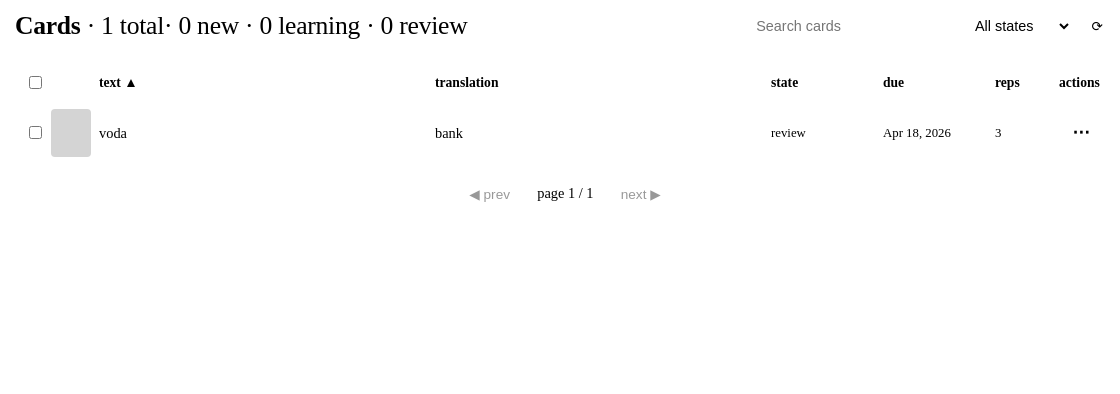
Test: cards/+page.svelte › shows a non-Error toggleSuspend rejection as text
Check: the text "voda" is shown, box [99,124,127,140]
What coordinates should you click on to do the following:
click the button "⋯"
I would click on:
 (1081, 133)
Its box is [1059,119,1103,147].
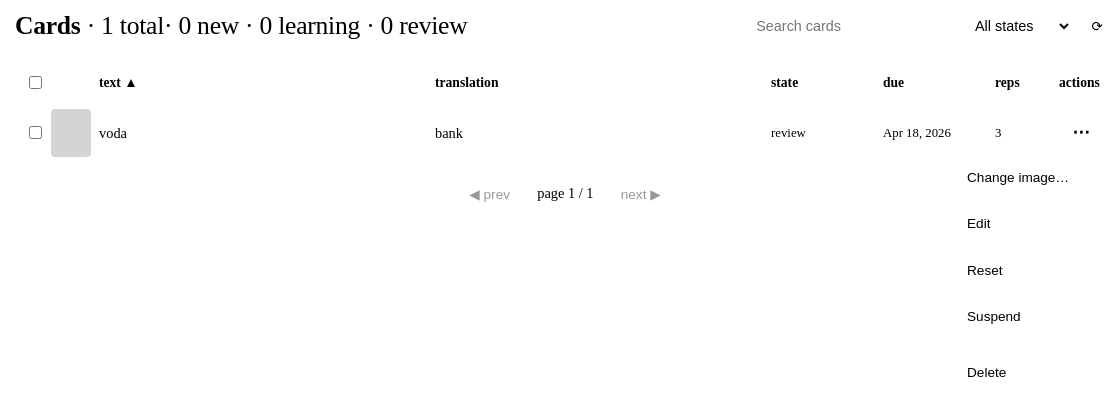
What coordinates should you click on to do the following:
click the menu item "Suspend"
I would click on:
 (1027, 317)
Its box is [955,295,1099,339].
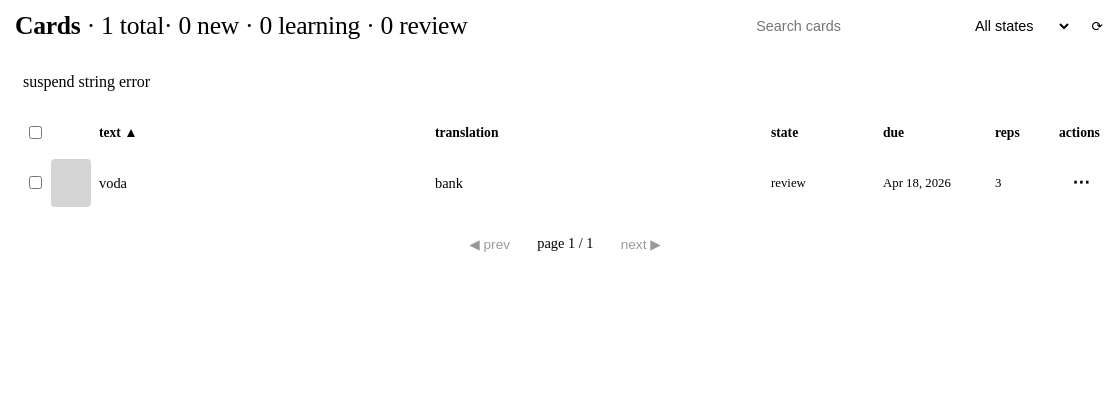
Check: the text "suspend string error" is shown, box [23,73,150,90]
